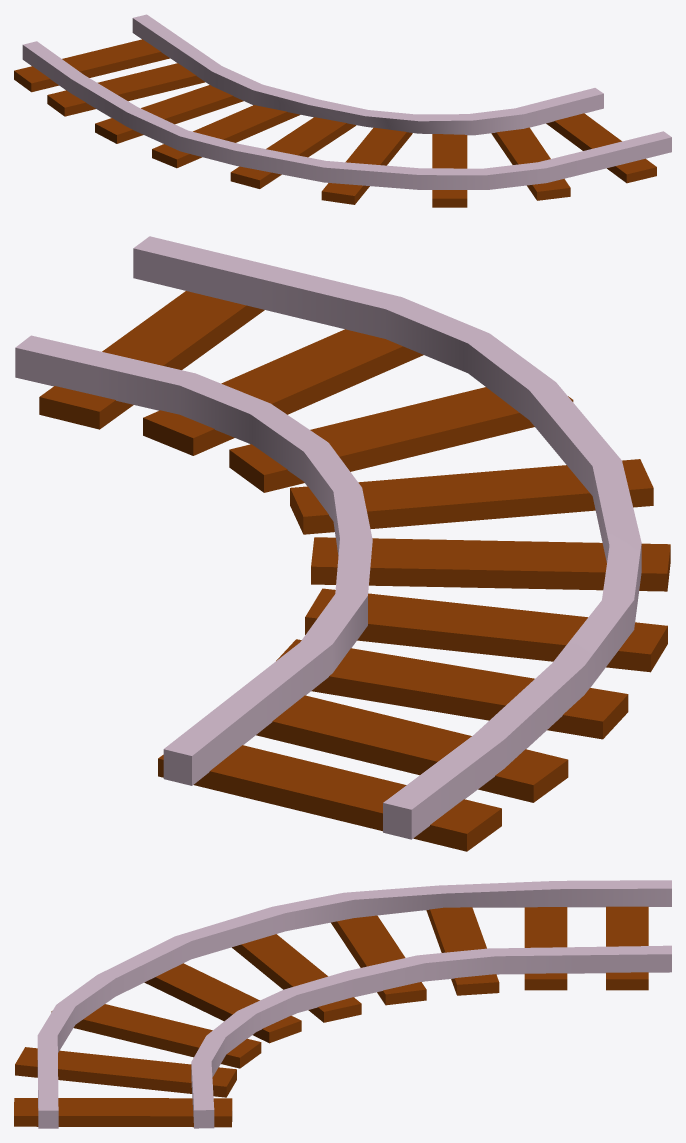
File: tory22.fbx
The picture shows the model from 3 angles, top to bottom: view 1: azimuth 30°, elevation 25°; view 2: azimuth 150°, elevation 25°; view 3: azimuth 270°, elevation 25°; orthographic projection. The views are drawn at different scales.
Parts seen in each view (by area): view 1: Cube.022, Cube.021, Cube.015, Cube.012, Cube.016, Cube.017, Cube.019, Cube.020, Cube.013, Cube.014, Cube.018; view 2: Cube.022, Cube.021, Cube.019, Cube.020, Cube.017, Cube.012, Cube.016, Cube.015, Cube.018, Cube.014, Cube.013; view 3: Cube.022, Cube.021, Cube.014, Cube.013, Cube.018, Cube.020, Cube.019, Cube.017, Cube.016, Cube.015, Cube.012.
Part boxes in pixels (x1=…): Cube.022: x1=22, y1=41, x2=671, y2=189; Cube.021: x1=132, y1=14, x2=603, y2=135; Cube.015: x1=47, y1=63, x2=205, y2=116; Cube.012: x1=14, y1=39, x2=169, y2=92; Cube.016: x1=95, y1=85, x2=243, y2=143; Cube.017: x1=152, y1=105, x2=300, y2=168; Cube.019: x1=230, y1=117, x2=356, y2=188; Cube.020: x1=321, y1=127, x2=412, y2=204; Cube.013: x1=546, y1=113, x2=656, y2=183; Cube.014: x1=491, y1=127, x2=570, y2=200; Cube.018: x1=432, y1=134, x2=467, y2=207; Cube.022: x1=133, y1=236, x2=641, y2=839; Cube.021: x1=15, y1=335, x2=372, y2=785; Cube.019: x1=311, y1=537, x2=670, y2=591; Cube.020: x1=290, y1=459, x2=653, y2=534; Cube.017: x1=305, y1=588, x2=667, y2=672; Cube.012: x1=158, y1=745, x2=501, y2=851; Cube.016: x1=276, y1=639, x2=628, y2=739; Cube.015: x1=256, y1=695, x2=568, y2=802; Cube.018: x1=229, y1=387, x2=573, y2=492; Cube.014: x1=143, y1=329, x2=423, y2=455; Cube.013: x1=39, y1=291, x2=264, y2=429; Cube.022: x1=37, y1=880, x2=671, y2=1128; Cube.021: x1=191, y1=945, x2=671, y2=1128; Cube.014: x1=15, y1=1047, x2=236, y2=1097; Cube.013: x1=14, y1=1098, x2=232, y2=1127; Cube.018: x1=51, y1=1004, x2=261, y2=1068; Cube.020: x1=144, y1=963, x2=301, y2=1043; Cube.019: x1=232, y1=934, x2=361, y2=1022; Cube.017: x1=331, y1=915, x2=426, y2=1005; Cube.016: x1=426, y1=907, x2=499, y2=995; Cube.015: x1=524, y1=907, x2=567, y2=990; Cube.012: x1=606, y1=906, x2=648, y2=990.
Bounding box in the file's own units: 2701 × 161 × 3083.
